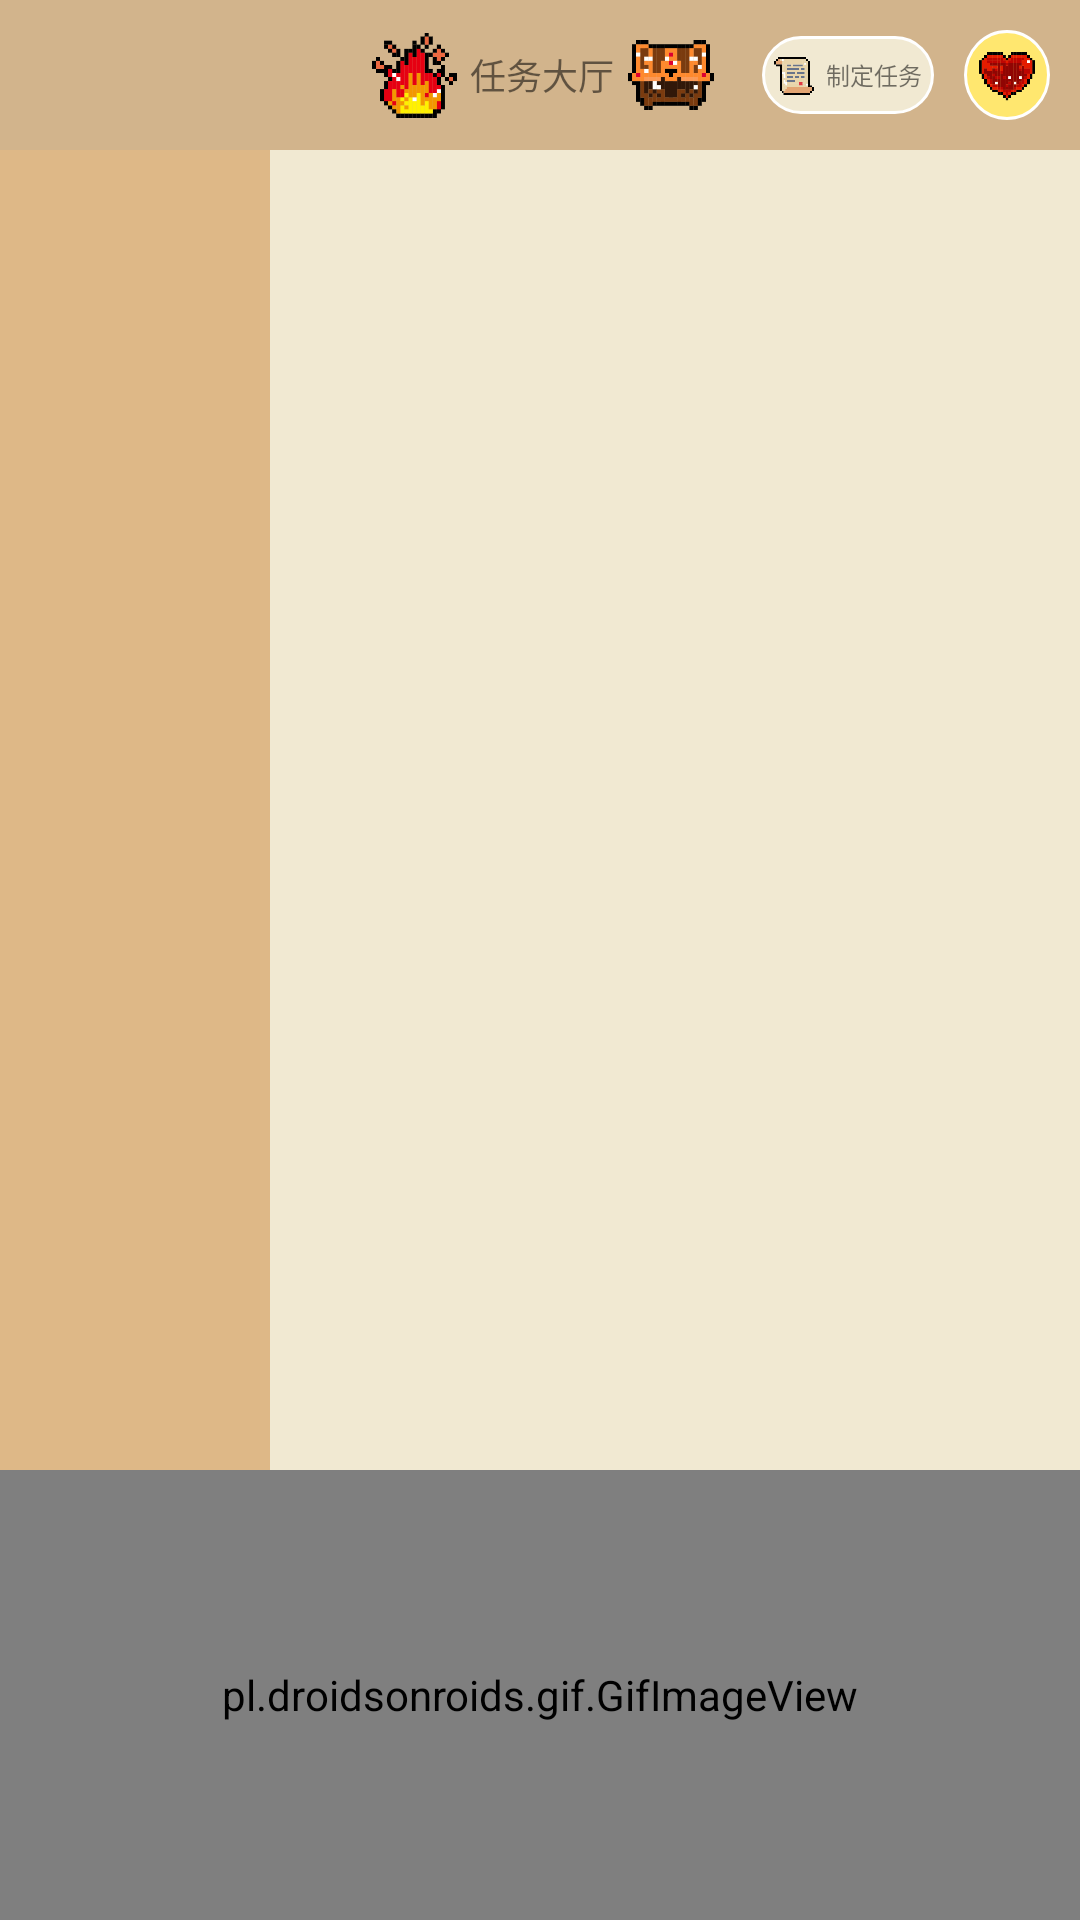

Where to tap for icons on this 1080px×1920px app screen, as point (x, y):
fire pixel: point (414, 75)
treasure pixel: point (671, 75)
